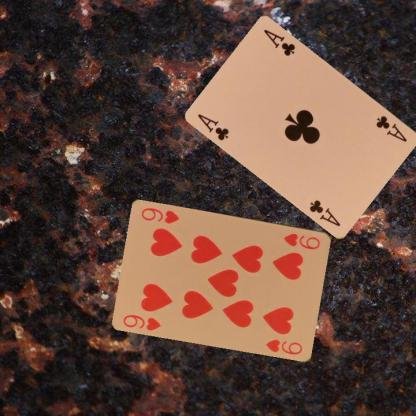9h: (121, 312, 163, 332), (281, 230, 322, 250)
Ac: (195, 111, 230, 142), (374, 113, 408, 143)
